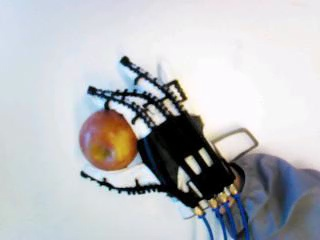apple: (77, 109, 137, 169)
hand: (81, 56, 237, 218), (77, 109, 137, 169)
